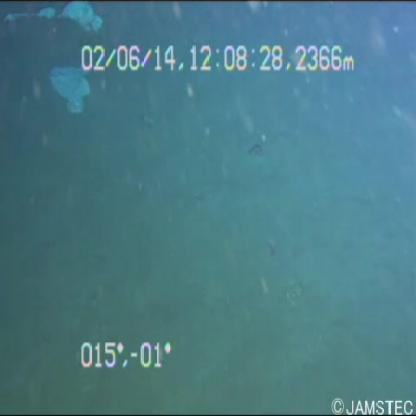Rác: (7, 3, 112, 48), (47, 51, 100, 120)
